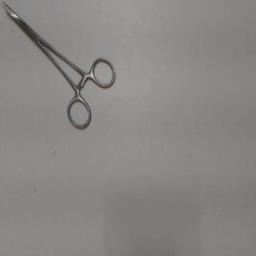Crile Artery Forceps: (1, 1, 117, 133)
